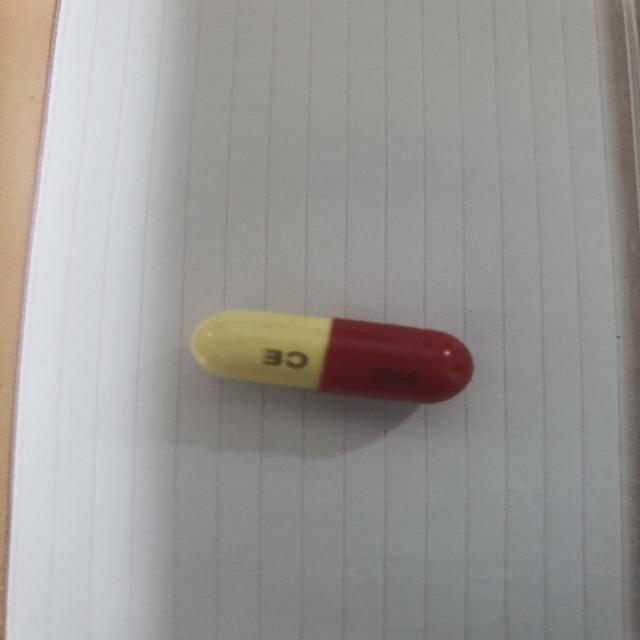pill: (178, 296, 490, 420)
